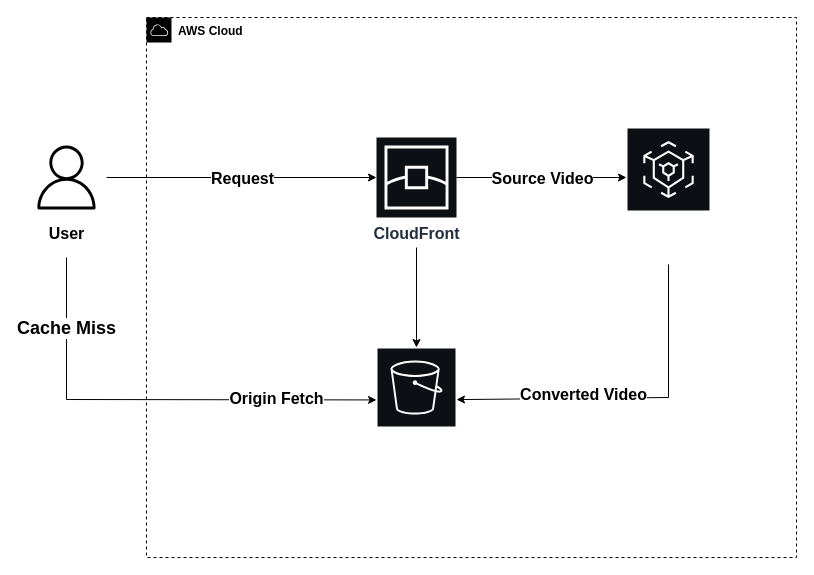
Image size: 814x575. Some labels were removed from this diagram. The shapes that lost their labels are listed below. From the top down, each one's centre as x and y in pixels, then its label:
point 668,195: AWS MediaConvert
point 416,399: S3 Input
